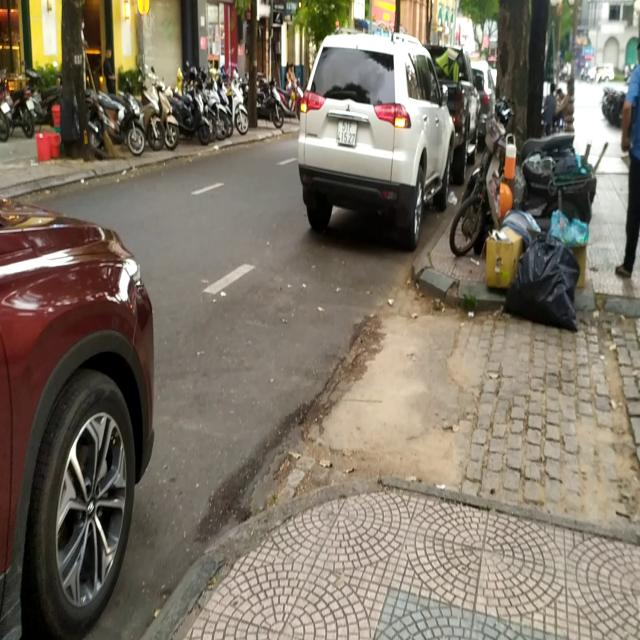bien_trang: (336, 116, 359, 148)
